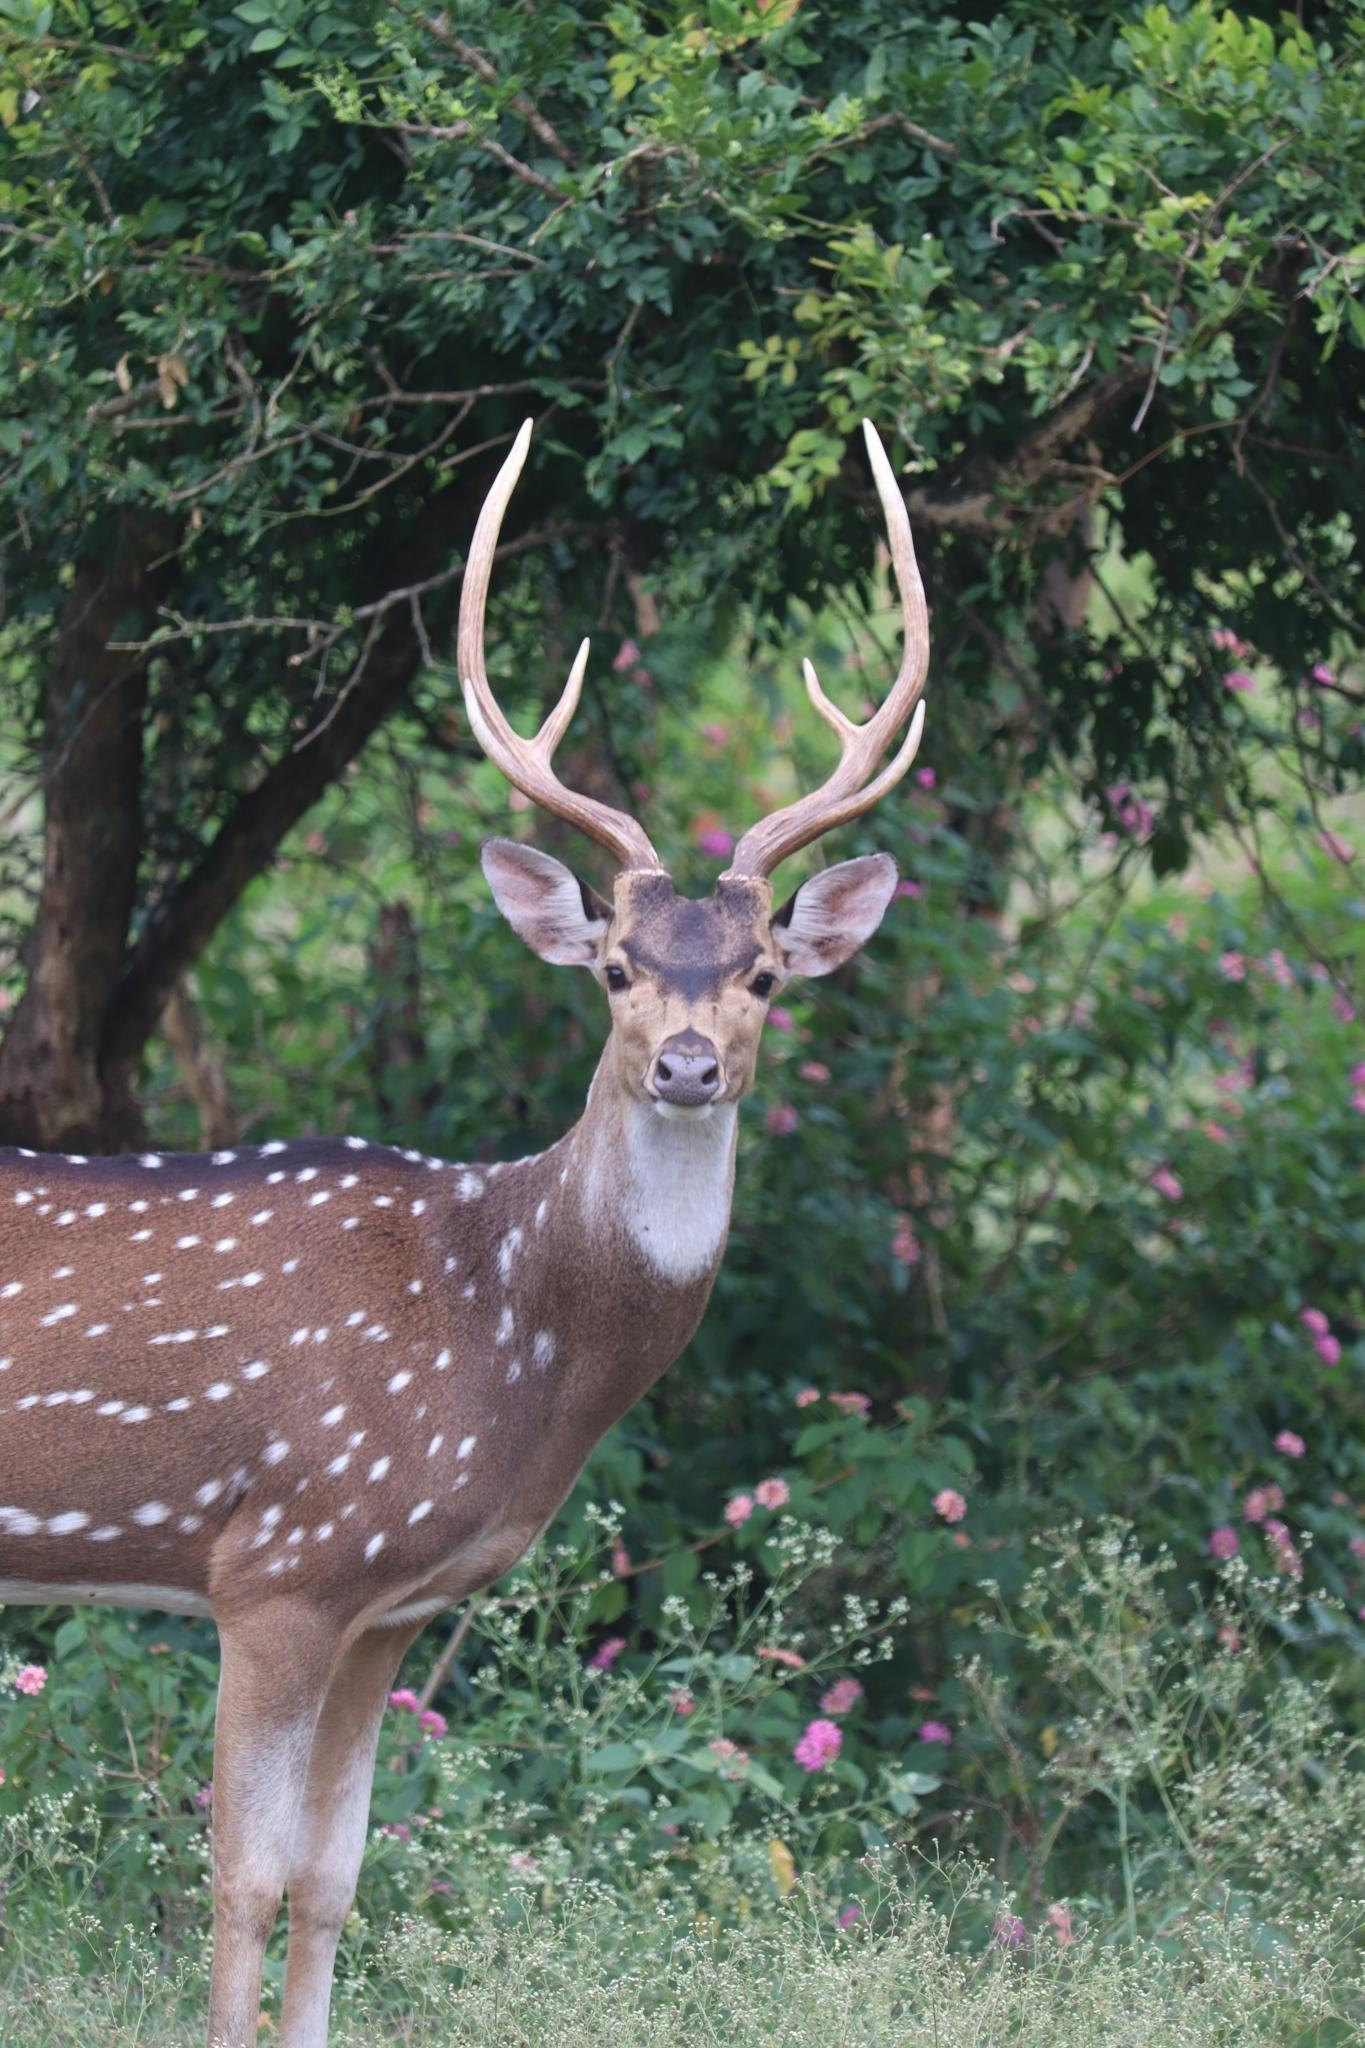Deer: (0, 420, 926, 2046)
